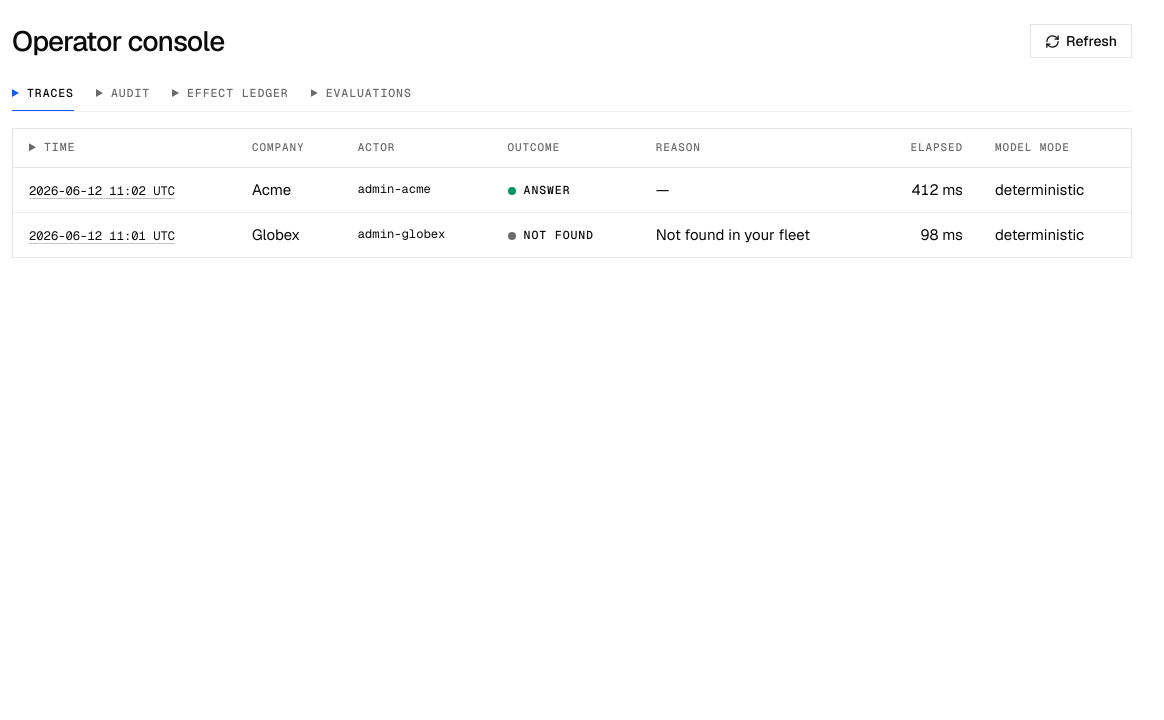
Scenario: the operator console › lists recent turns in words and opens a turn's trace timeline
This screenshot has width=1164, height=720.
Expected: the text "Acme" is shown, [236,167,342,212]
Expected: the text "admin-acme" is shown, [342,167,492,212]
Step 1. Click the button "2026-06-12 11:02 UTC" → (102, 191), box [21,178,183,205]
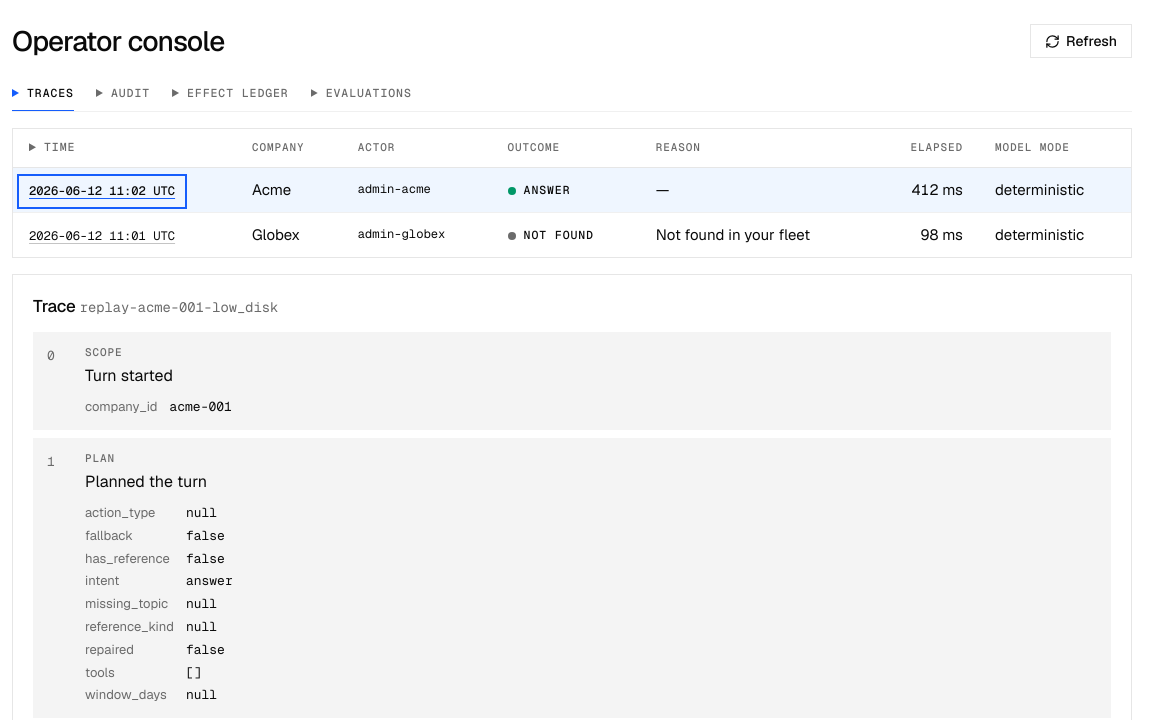
Expected: the number of list items is 4
Expected: the text "Turn started" is shown, [85,365,173,386]
